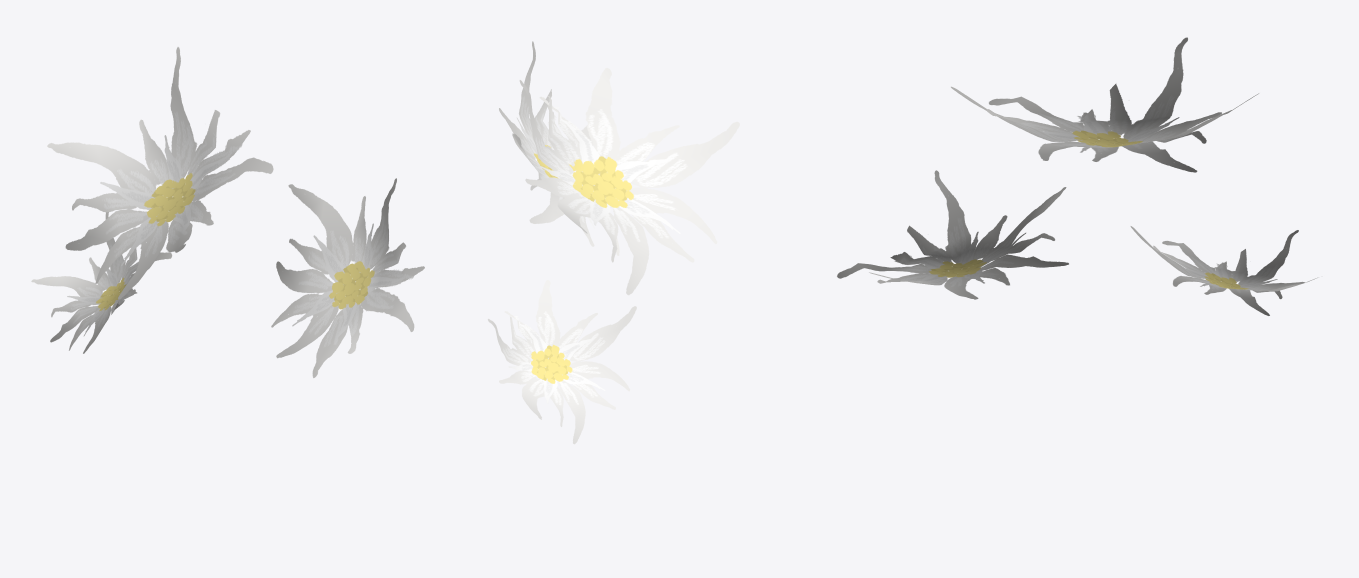
Rendered from Edelweiss.gltf.
3 renders of one model, left to right at view 1: azimuth 30°, elevation 25°; view 2: azimuth 150°, elevation 25°; view 3: azimuth 270°, elevation 25°, orthographic. The views are drawn at different scales.
Visible parts, largest first — view 1: edelweiss_petal_2, edelweiss_petal_3, edelweiss_petal_1; view 2: edelweiss_petal_2, edelweiss_petal_1, edelweiss_petal_3; view 3: edelweiss_petal_2, edelweiss_petal_3, edelweiss_petal_1.
Part boxes in pixels (box(x1,y1,x2,y2)): edelweiss_petal_2: box(47, 47, 273, 299); edelweiss_petal_3: box(271, 178, 424, 377); edelweiss_petal_1: box(31, 212, 172, 353); edelweiss_petal_2: box(519, 68, 739, 295); edelweiss_petal_1: box(487, 280, 636, 444); edelweiss_petal_3: box(499, 41, 619, 255); edelweiss_petal_2: box(951, 37, 1258, 172); edelweiss_petal_3: box(837, 170, 1068, 299); edelweiss_petal_1: box(1130, 226, 1318, 315).
Bounding box in the file's own units: 0.0769 × 0.1368 × 0.12.
Materials: 7 (7 with a texture image).
